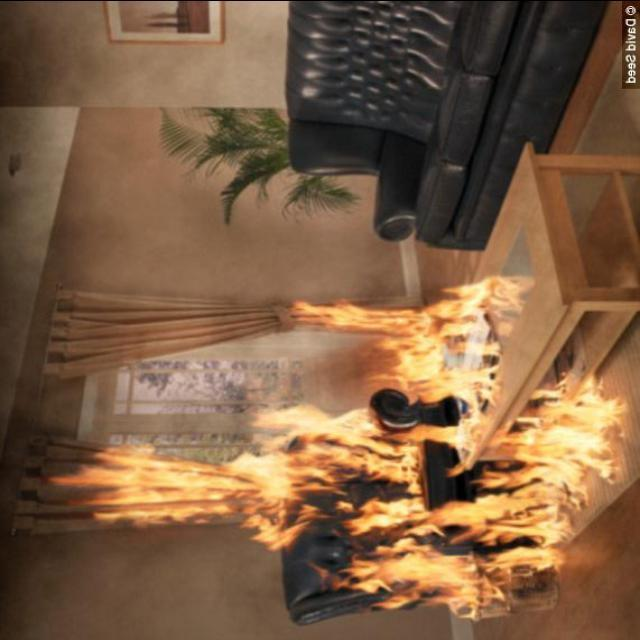Fire: (248, 269, 632, 621), (42, 429, 244, 538)
